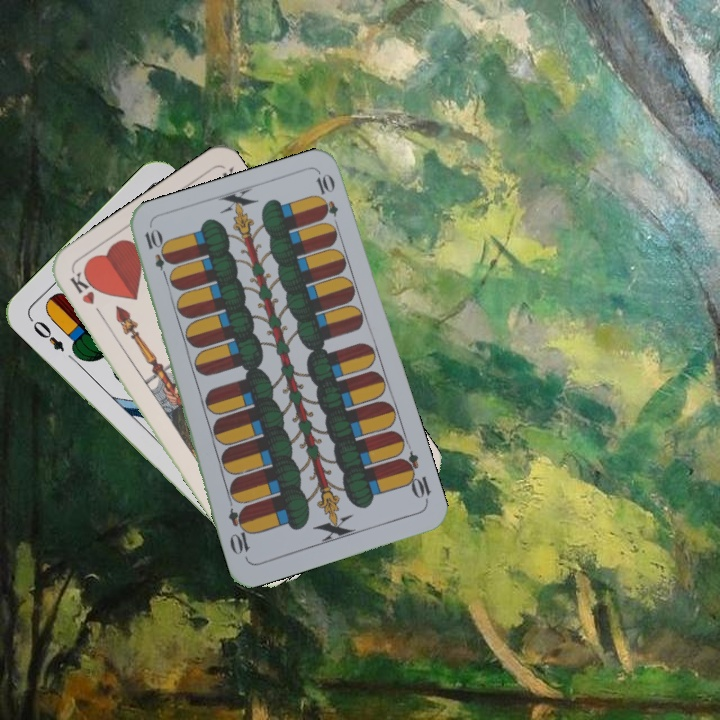E10: (396, 448, 434, 506), (140, 225, 173, 284)
EO: (29, 316, 67, 355)
HK: (66, 267, 108, 322)
